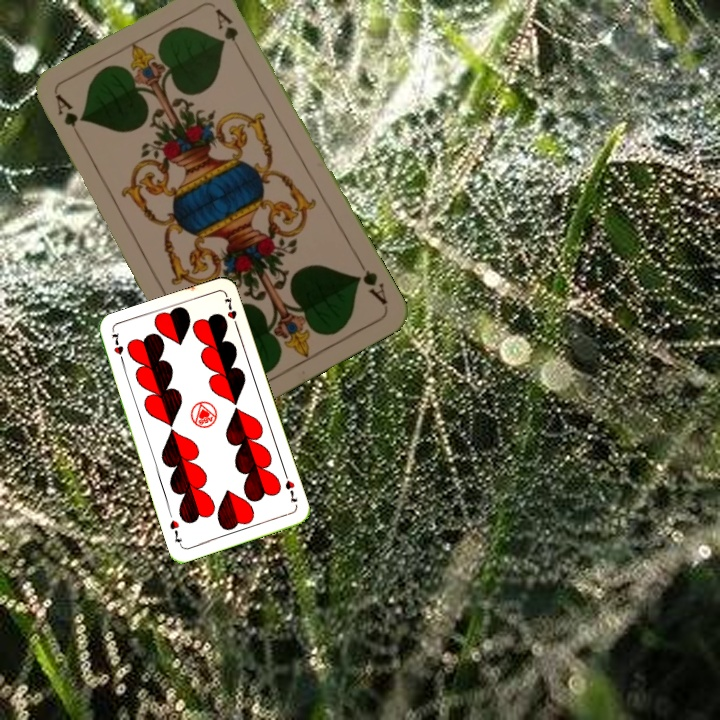GA: (351, 255, 390, 308), (51, 90, 84, 146)
H7: (107, 329, 127, 368), (280, 469, 300, 505)
